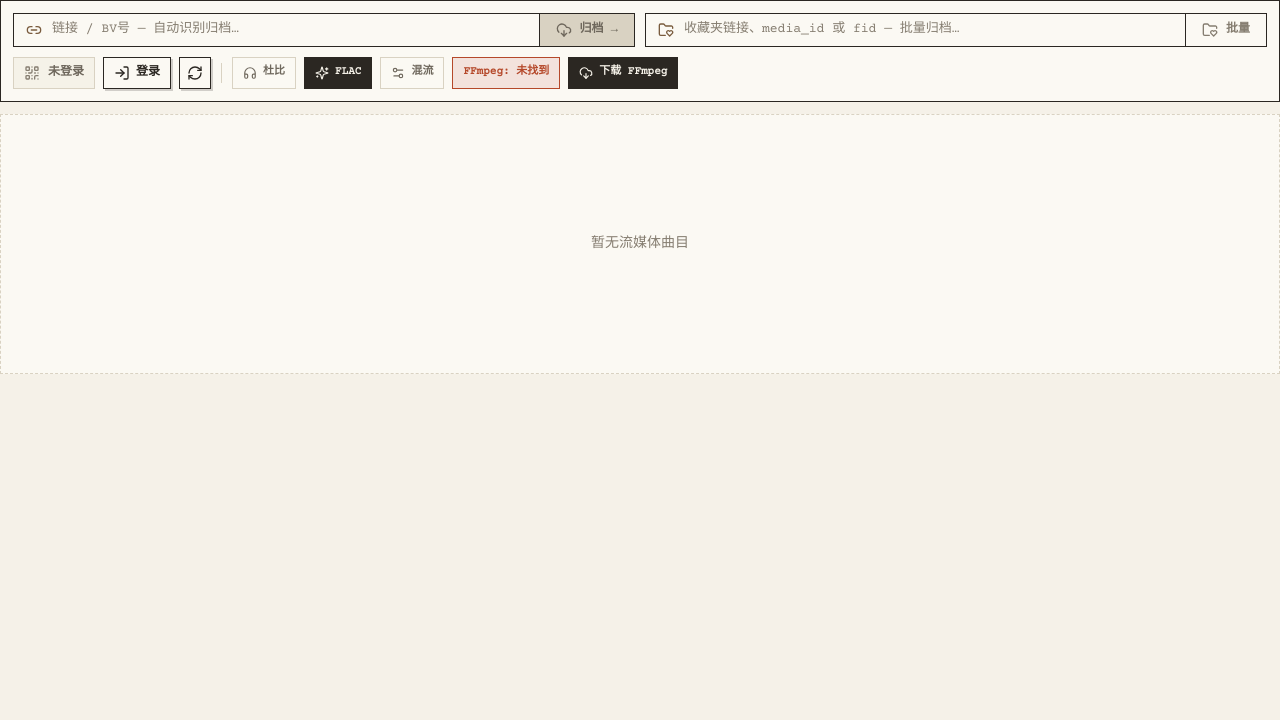
Scenario: 流媒体页 · 多 P 视频导入（BILI-05） › 分 P 数刚好等于上限时仍可全量导入
The width and height of the screenshot is (1280, 720).
Type "BV1xx411c7mD" into the field with placeholder "链接 / BV号 — 自动识别归档…". click: (289, 30)
box: [52, 20, 527, 40]
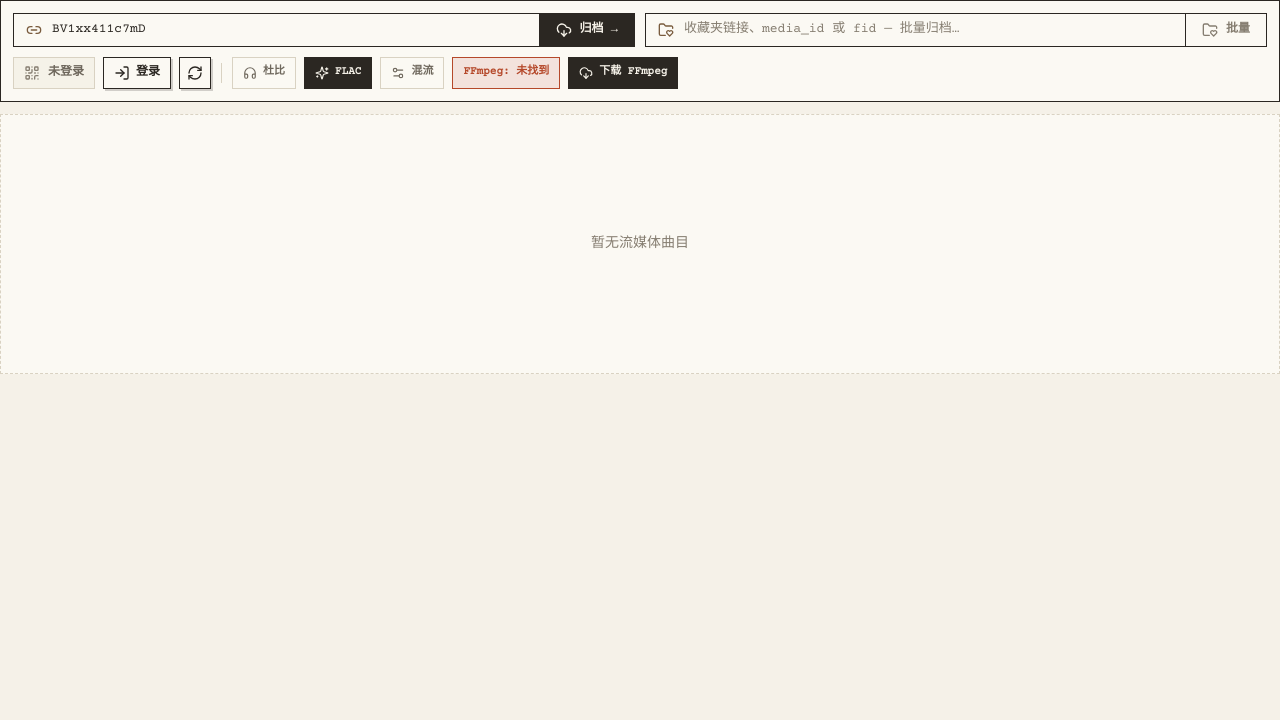
Click the button "归档 →". click: click(586, 30)
box: [539, 14, 634, 46]
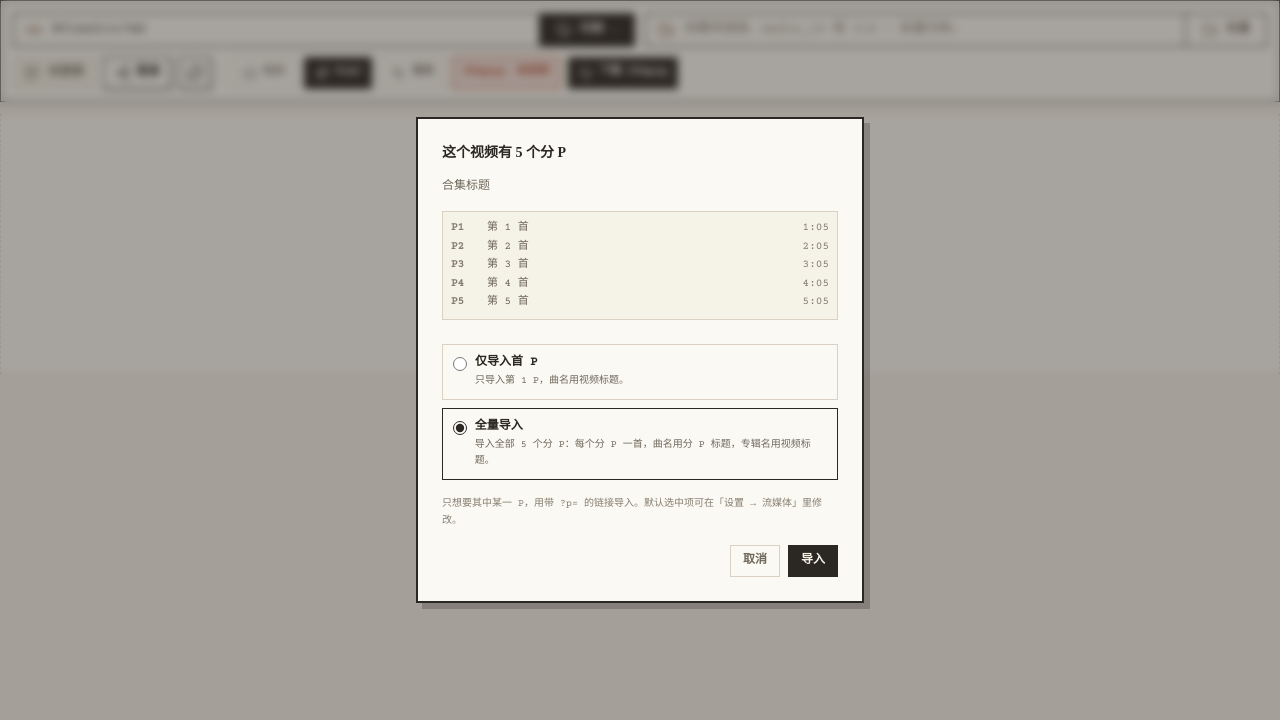
Result: the radio button labelled "全量导入 导入全部 5 个分 P：每个分 P 一首，曲名用分 P 标题，专辑名用视频标题。" is enabled at [453, 421, 467, 435]
Result: the radio button labelled "全量导入 导入全部 5 个分 P：每个分 P 一首，曲名用分 P 标题，专辑名用视频标题。" is checked at [453, 421, 467, 435]
